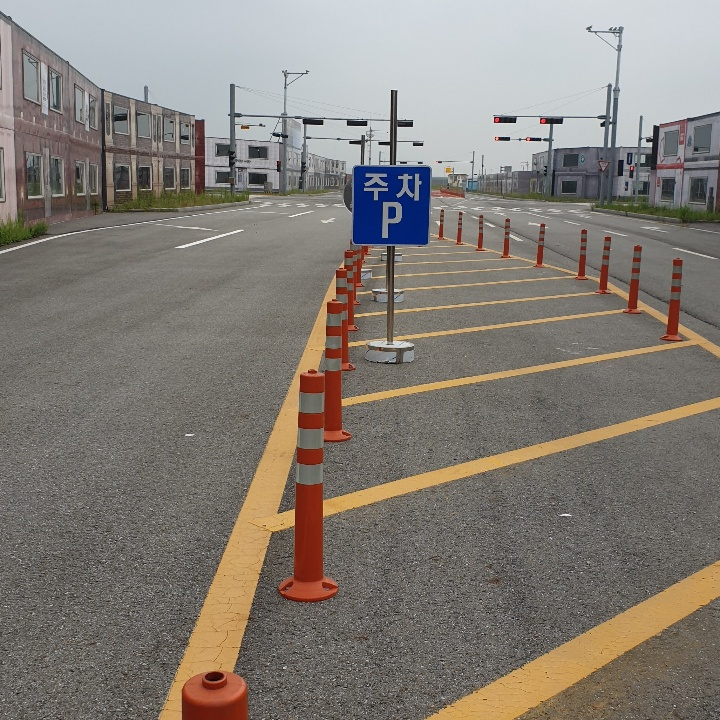parking: (376, 194, 407, 244)
